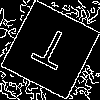T: (25, 25, 74, 80)
